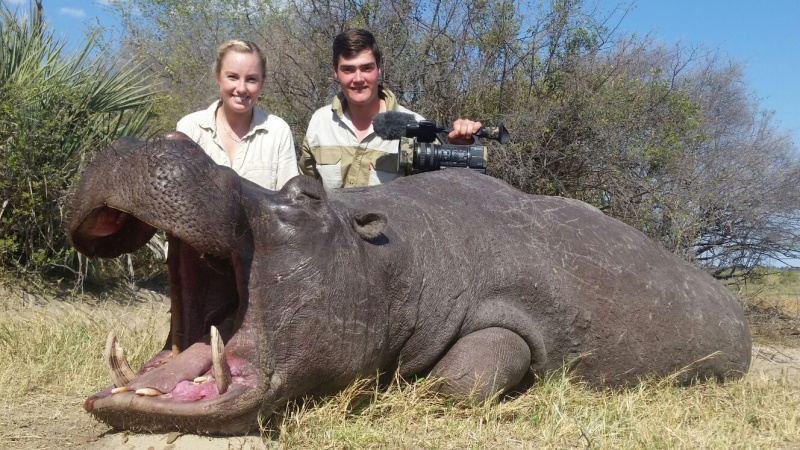hipopotamo: (65, 127, 754, 433)
